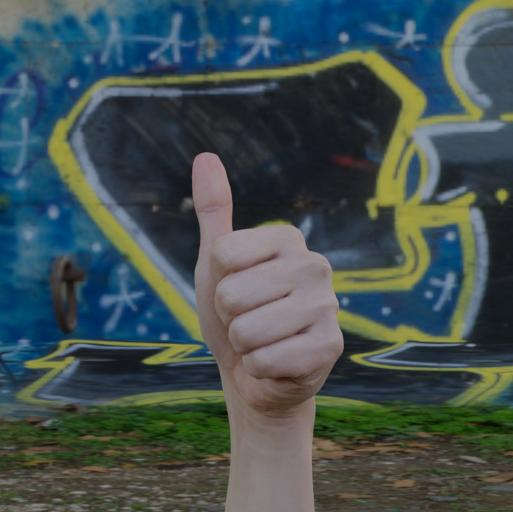thumbs-up: (190, 146, 346, 416)
